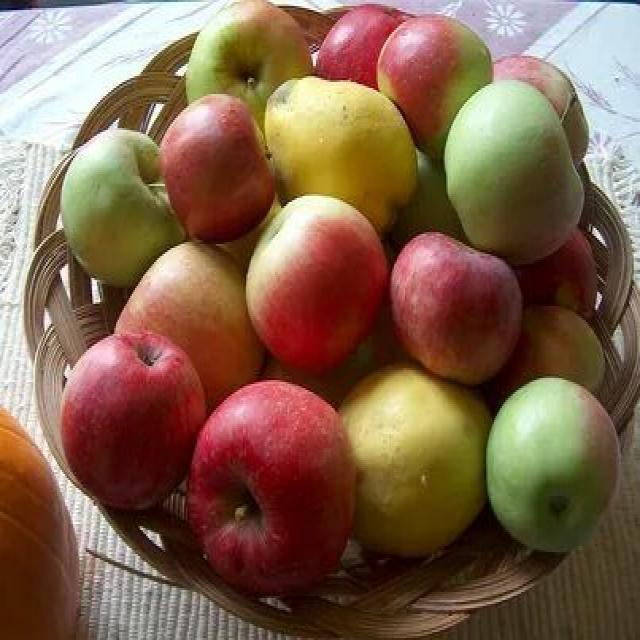Fresh Apple: (330, 380, 488, 557), (47, 327, 205, 498), (203, 390, 342, 583), (480, 382, 617, 543), (395, 235, 532, 393), (58, 123, 178, 290), (445, 92, 567, 255), (258, 205, 375, 357), (155, 114, 288, 244), (127, 250, 248, 387), (278, 100, 400, 215), (180, 13, 303, 120), (383, 13, 480, 134), (313, 12, 392, 93)
